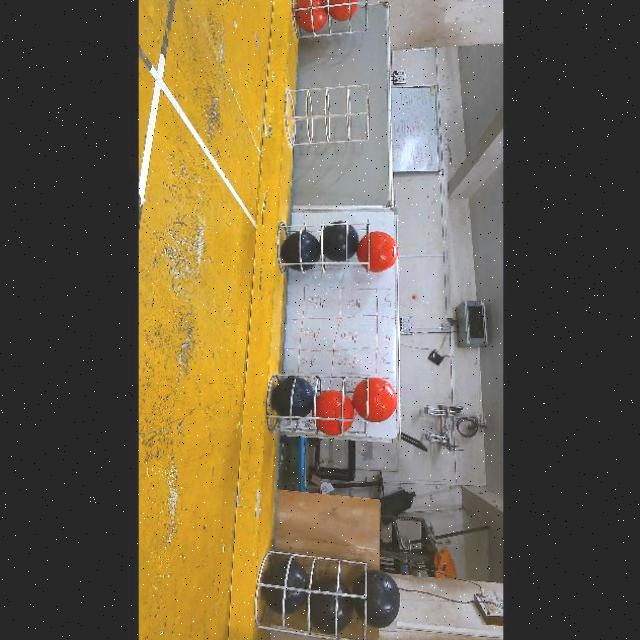P: (352, 570, 400, 628), (261, 557, 307, 615), (309, 577, 354, 635), (271, 377, 314, 420), (281, 232, 320, 272), (321, 222, 358, 262)
R: (352, 377, 396, 423), (315, 390, 355, 435), (355, 232, 397, 272), (293, 0, 328, 33), (328, 0, 358, 22)
S: (250, 550, 376, 640), (269, 370, 373, 440), (284, 81, 374, 142), (274, 222, 372, 278), (290, 0, 372, 40)
